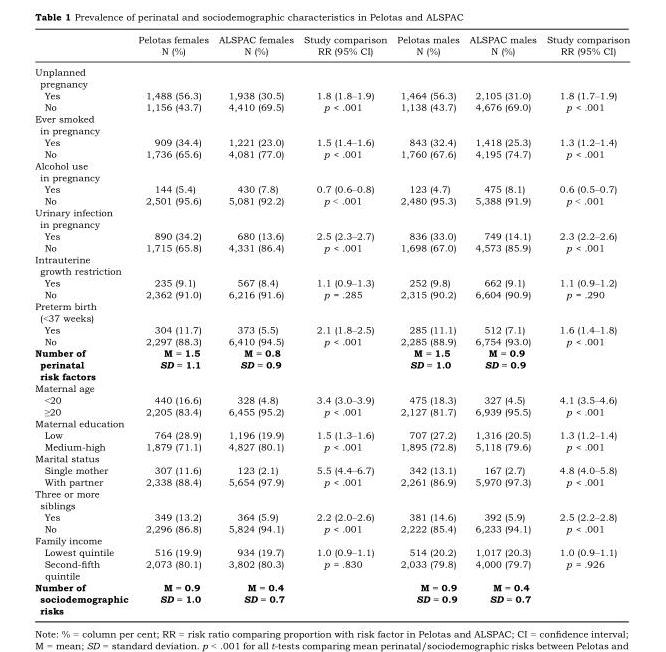table: (34, 34, 629, 615)
table column: (34, 34, 132, 615), (298, 34, 391, 615), (540, 34, 629, 615), (213, 34, 298, 615), (132, 34, 213, 615), (463, 34, 540, 615), (391, 34, 463, 615)
table column header: (34, 34, 629, 61)
table projected row header: (34, 61, 629, 89), (34, 159, 629, 183), (34, 487, 629, 511), (34, 113, 629, 136), (34, 206, 629, 229), (34, 253, 629, 276), (34, 300, 629, 323), (34, 417, 629, 429), (34, 452, 629, 464), (34, 534, 629, 546), (34, 382, 629, 393)
table row: (34, 346, 629, 382), (34, 581, 629, 615), (34, 61, 629, 89), (34, 159, 629, 183), (34, 487, 629, 511), (34, 113, 629, 136), (34, 206, 629, 229), (34, 253, 629, 276), (34, 300, 629, 323), (34, 558, 629, 581), (34, 45, 629, 61), (34, 404, 629, 417), (34, 89, 629, 101), (34, 101, 629, 113), (34, 136, 629, 148), (34, 194, 629, 206), (34, 229, 629, 241), (34, 241, 629, 253), (34, 276, 629, 288), (34, 288, 629, 300), (34, 323, 629, 335), (34, 417, 629, 429), (34, 429, 629, 441), (34, 452, 629, 464), (34, 464, 629, 476), (34, 511, 629, 523), (34, 534, 629, 546), (34, 546, 629, 558), (34, 34, 629, 45), (34, 148, 629, 159), (34, 183, 629, 194), (34, 335, 629, 346), (34, 382, 629, 393), (34, 393, 629, 404), (34, 441, 629, 452), (34, 476, 629, 487), (34, 523, 629, 534)
table spanning cell: (298, 34, 391, 61), (540, 34, 629, 61), (213, 34, 298, 61), (132, 34, 213, 61), (463, 34, 540, 61), (391, 34, 463, 61)
